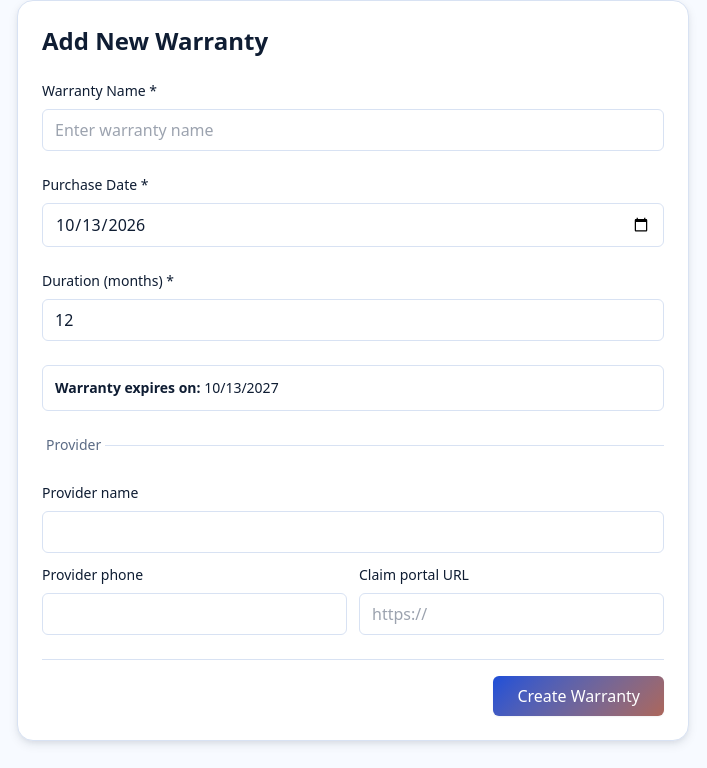
Test: <WarrantyForm /> validation › rejects a duration over 120 months
Replace the text in the number field labelled "Duration (months) *" with "200" at (353, 320), box [42,299,664,341]
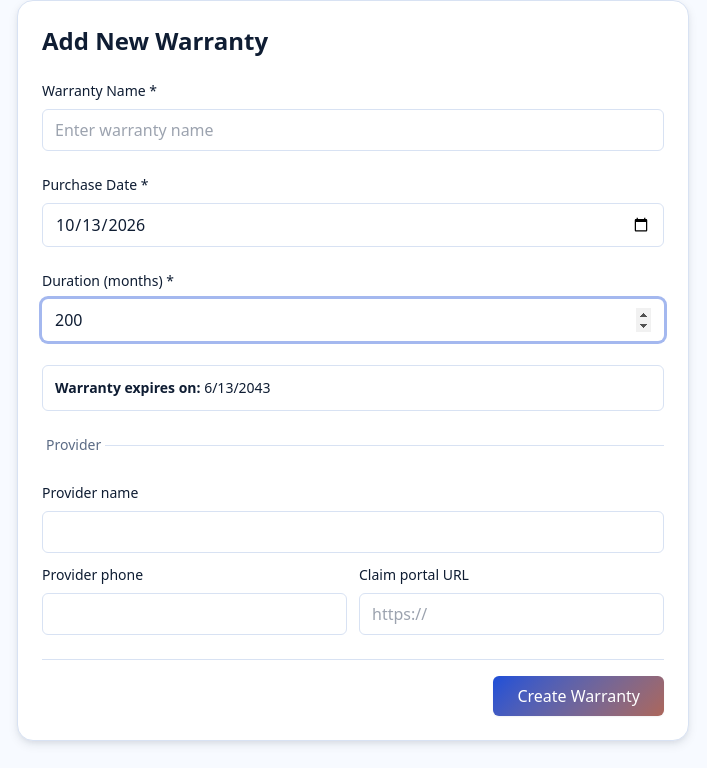
Type "Laptop" into the field labelled "Warranty Name *" at (353, 130), box [42,109,664,151]
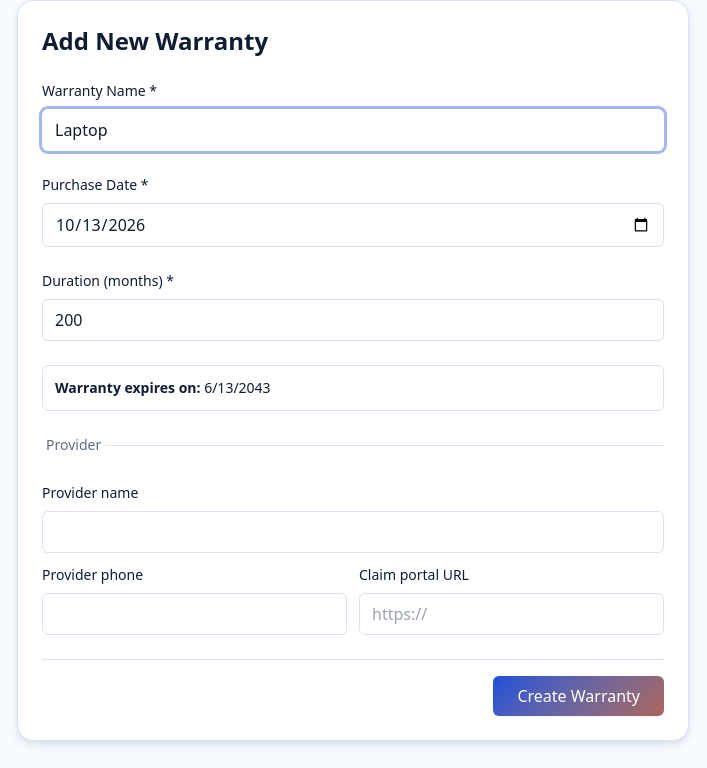
Click the button "Create Warranty" at (579, 696), box [493,676,664,716]
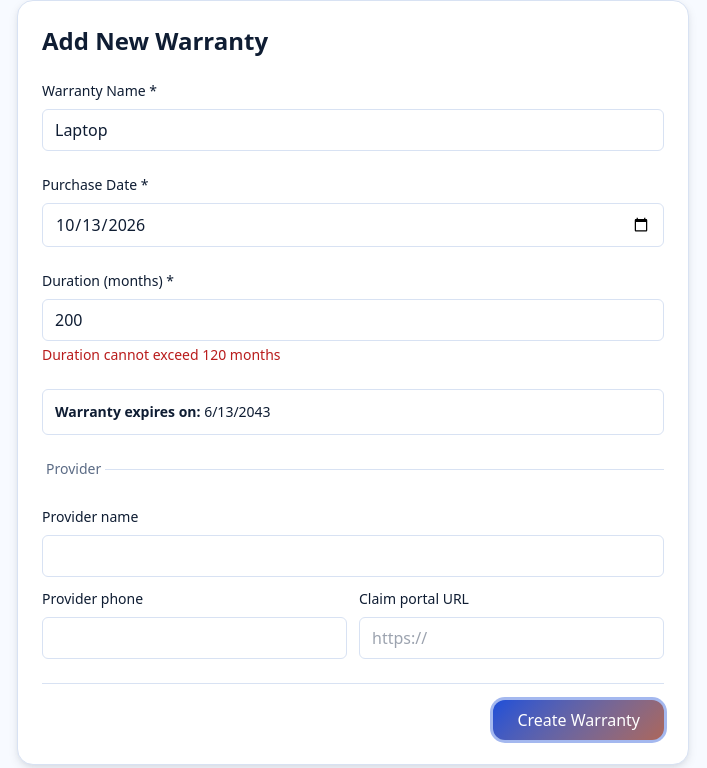
Expected: the text "Duration cannot exceed 120 months" is shown, [42,345,280,364]
